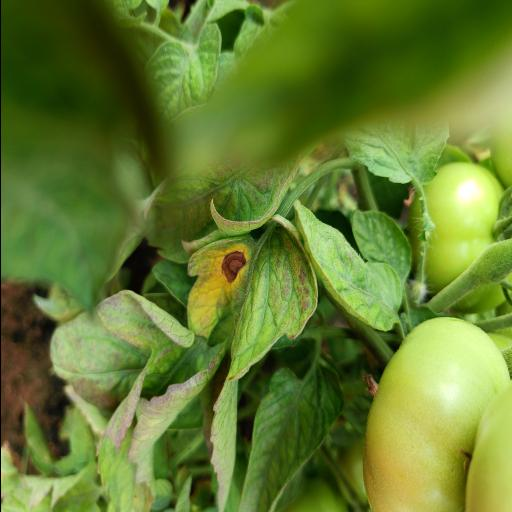disease_tomato: (178, 229, 318, 379)
